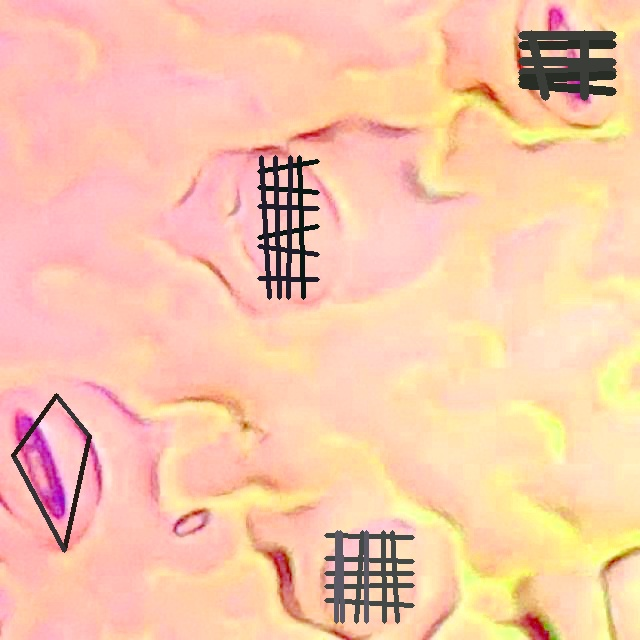close: (257, 155, 319, 299), (324, 530, 414, 623)
open: (11, 393, 91, 552), (519, 30, 615, 99)
